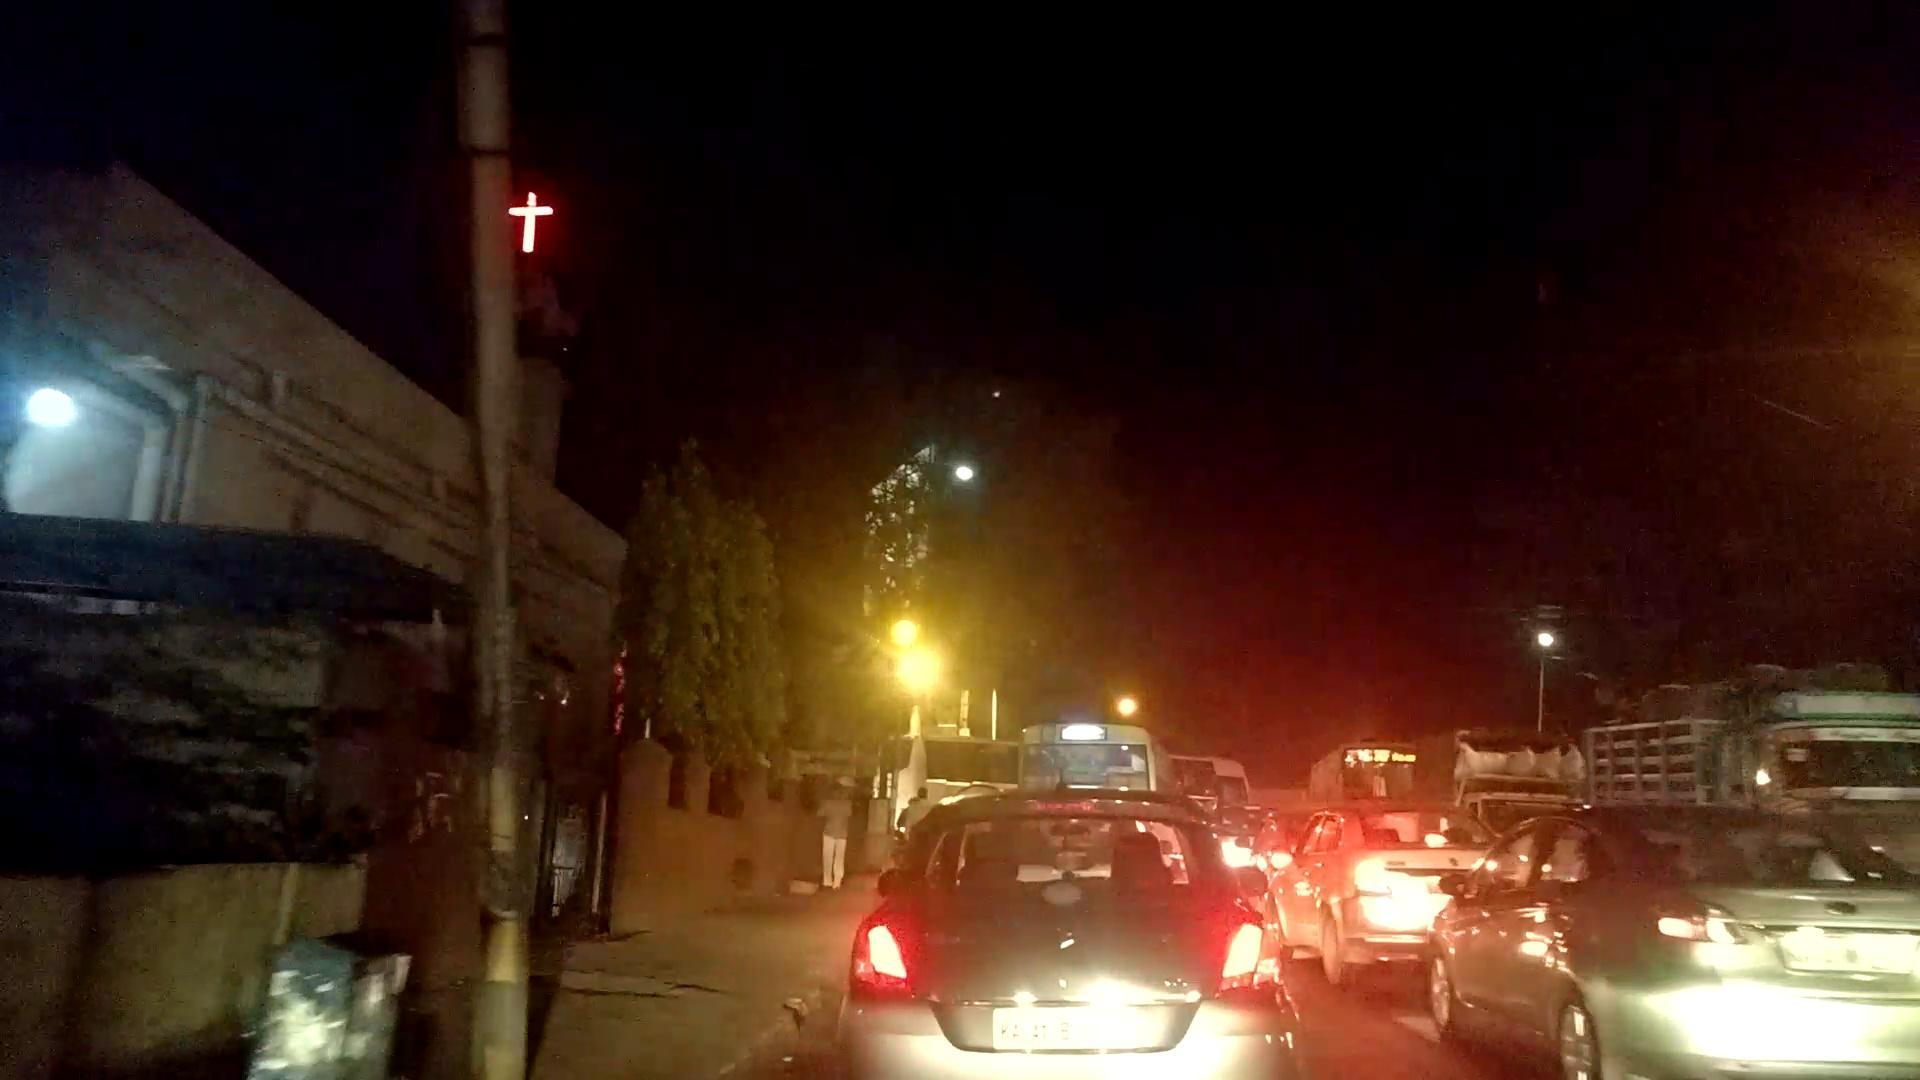on: (790, 553, 1039, 795)
